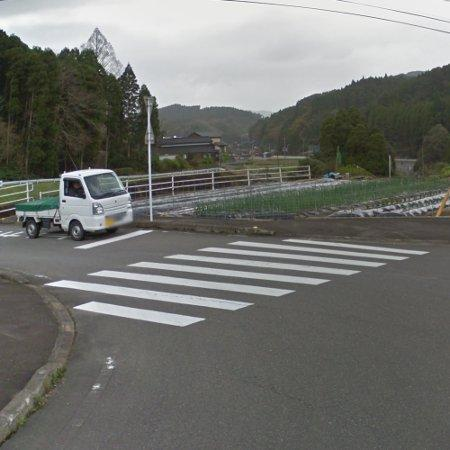crosswalks: (40, 238, 432, 333)
